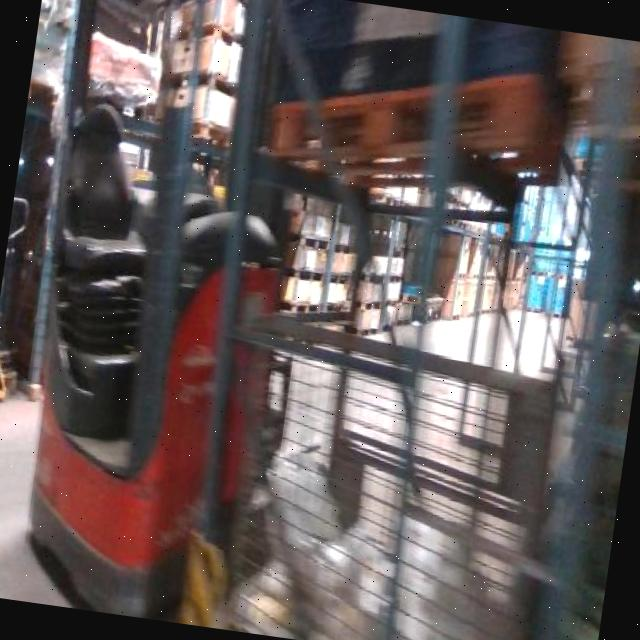pallet: (258, 59, 556, 162), (164, 12, 247, 61), (272, 294, 326, 324), (282, 262, 334, 288), (322, 267, 357, 293), (292, 236, 334, 256)
